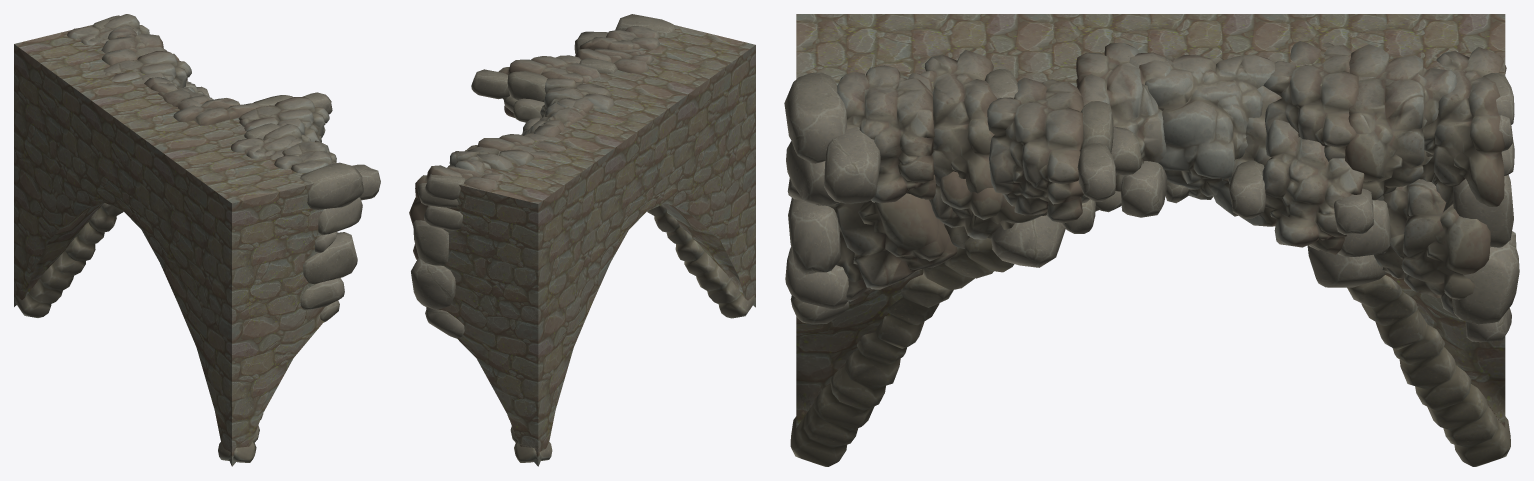
Rendered from SM_FW01_Ruins_Int_Ceiling_A_6x6_Brkn_02.fbx.
3 renders of one model, left to right at view 1: azimuth 30°, elevation 25°; view 2: azimuth 150°, elevation 25°; view 3: azimuth 270°, elevation 25°, orthographic. The views are drawn at different scales.
Parts seen in each view (by area): view 1: SM_FW01_Ruins_Int_Ceiling_A_6x6_Brkn_02, SM_FW01_Ruins_Int_Ceiling_A_6x6_Brkn_02_LOD0; view 2: SM_FW01_Ruins_Int_Ceiling_A_6x6_Brkn_02, SM_FW01_Ruins_Int_Ceiling_A_6x6_Brkn_02_LOD0; view 3: SM_FW01_Ruins_Int_Ceiling_A_6x6_Brkn_02_LOD0, SM_FW01_Ruins_Int_Ceiling_A_6x6_Brkn_02.
Part boxes in pixels (box(x1,y1,x2,y2)): SM_FW01_Ruins_Int_Ceiling_A_6x6_Brkn_02: box(14, 25, 324, 466); SM_FW01_Ruins_Int_Ceiling_A_6x6_Brkn_02_LOD0: box(15, 14, 380, 462); SM_FW01_Ruins_Int_Ceiling_A_6x6_Brkn_02: box(437, 25, 755, 466); SM_FW01_Ruins_Int_Ceiling_A_6x6_Brkn_02_LOD0: box(409, 14, 754, 462); SM_FW01_Ruins_Int_Ceiling_A_6x6_Brkn_02_LOD0: box(784, 41, 1519, 466); SM_FW01_Ruins_Int_Ceiling_A_6x6_Brkn_02: box(796, 14, 1505, 427).
Size of what is drawn, in the model's own units: 3.05 by 4.23 by 6.22.
